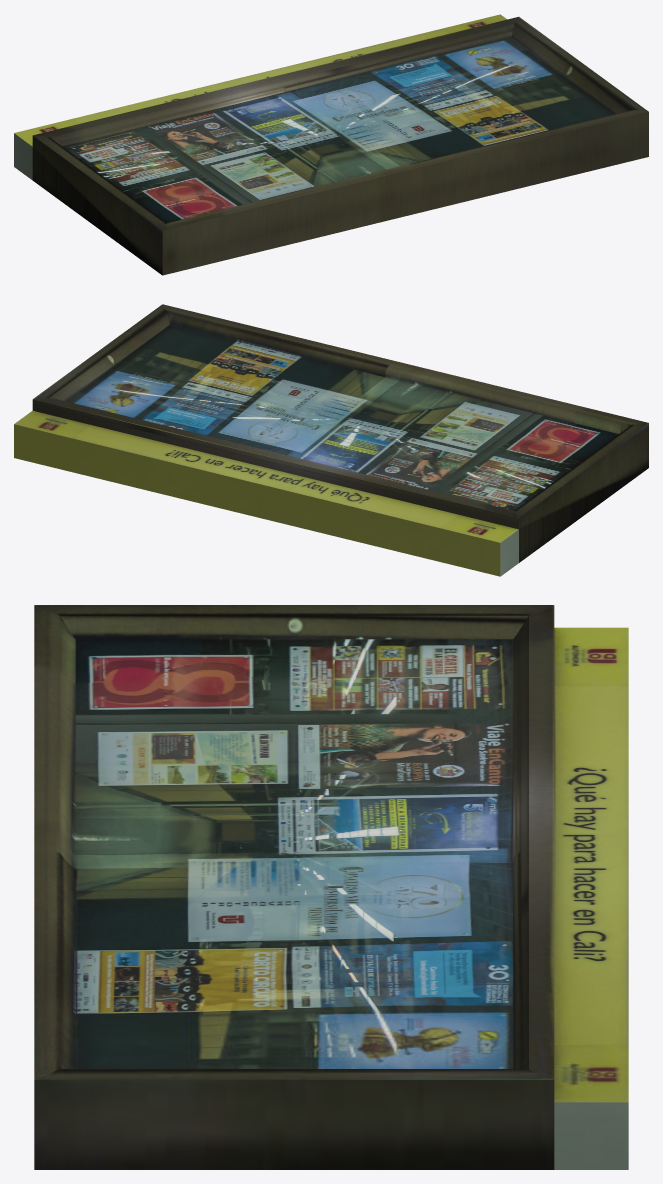
The model's file is tableroNoticiasv2.fbx.
3 views of the same model, one above another, from view 1: azimuth 30°, elevation 25°; view 2: azimuth 150°, elevation 25°; view 3: azimuth 270°, elevation 25° (orthographic). The views are drawn at different scales.
Visible parts, largest first — view 1: Cube; view 2: Cube; view 3: Cube.
Boxes of the visible parts, x1,y1,x2,y2 form: Cube: [14, 14, 648, 275]; Cube: [14, 304, 648, 576]; Cube: [34, 605, 628, 1169].
Bounding box in the file's own units: 968 × 85.77 × 512.
